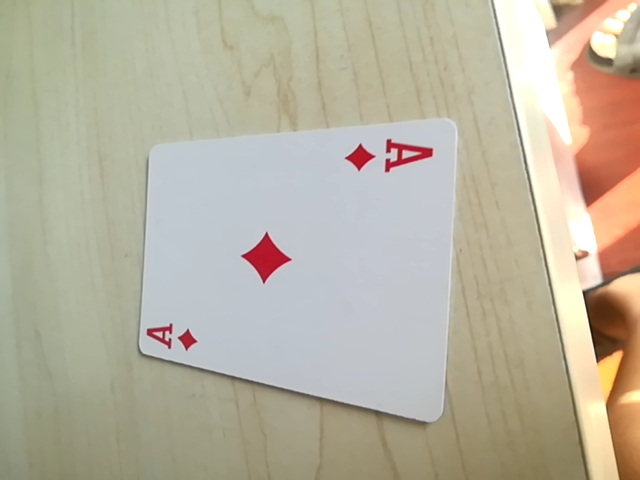fk a: (346, 132, 437, 180), (140, 314, 205, 358)
